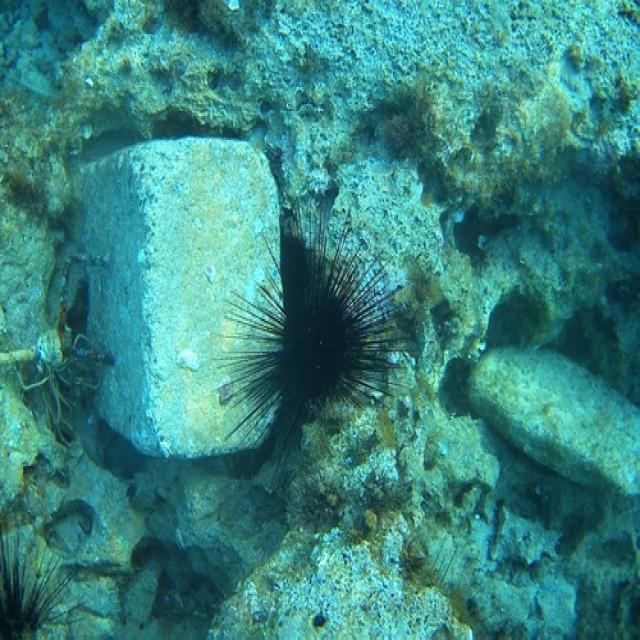Urchin: (221, 205, 415, 490)
